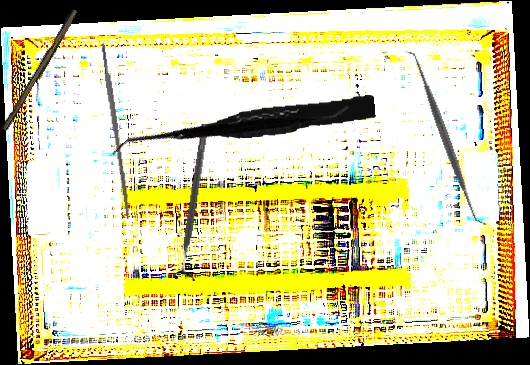Fixation Ring: (171, 122, 218, 282)
Scalpel Handle: (0, 7, 81, 134), (100, 41, 132, 220)
Spatula Surgical: (111, 17, 350, 244), (403, 44, 489, 233)
Tissue Forceps: (171, 94, 377, 145)
